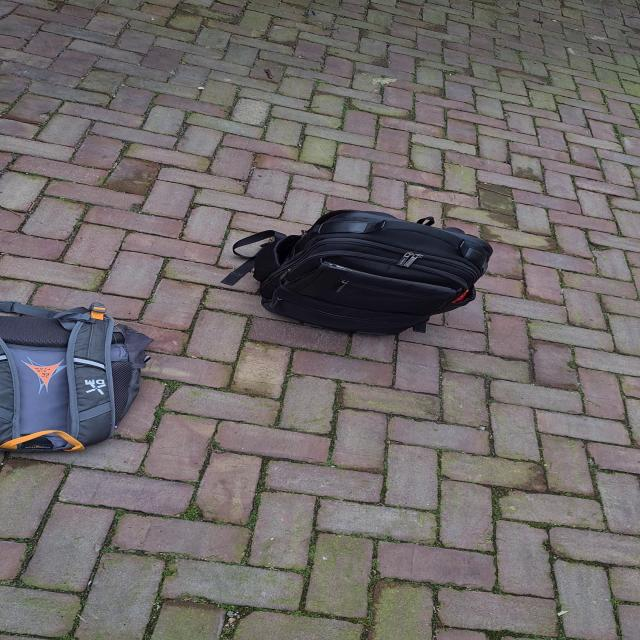backpack: (237, 206, 501, 338), (0, 294, 160, 450)
